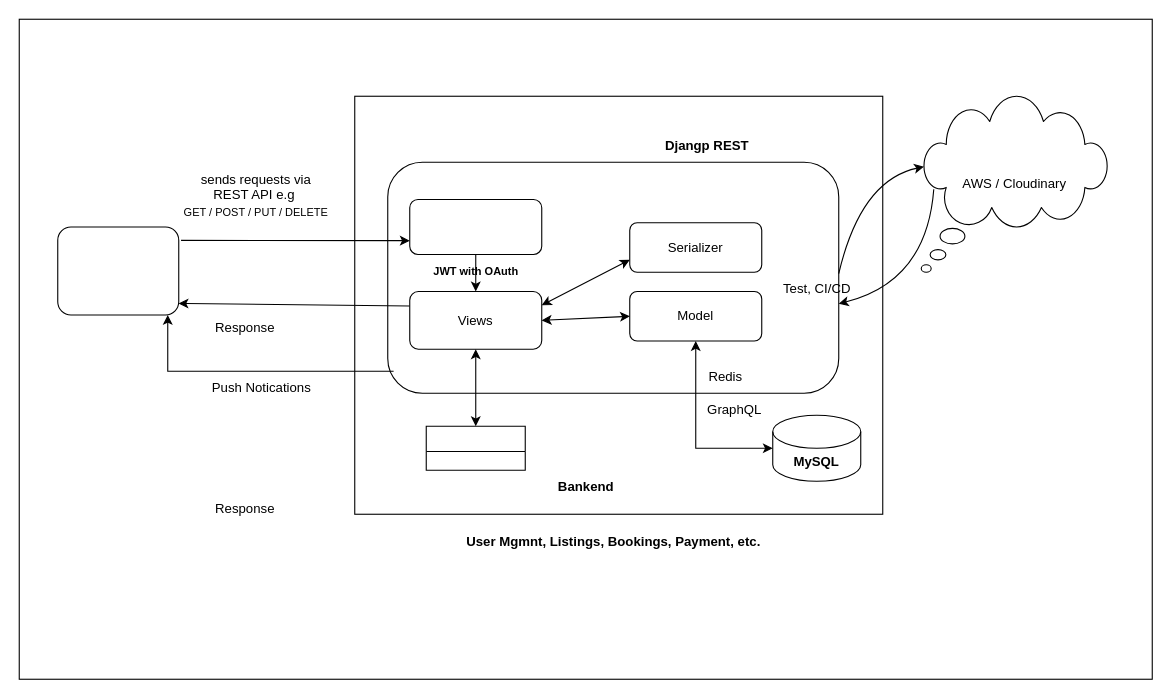
The diagram is 1172 pixels wide and 699 high, and some of its shapes have lost their labels. The centre of each missing label's shape, as x and y in pixels:
"Payment Integration" belongs at (475,447).
"URL Patterns" belongs at (475,226).
"User Guests / Hosts" belongs at (118,270).
